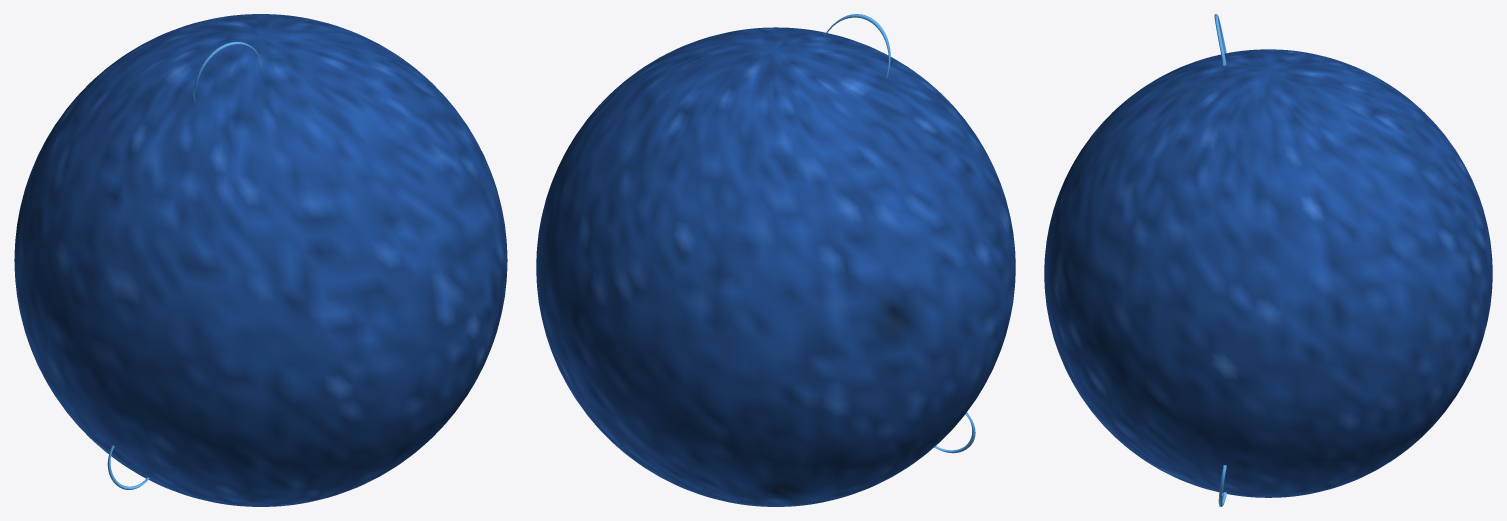
The model's file is Star_39.fbx.
3 views of the same model, side by side, from view 1: azimuth 30°, elevation 25°; view 2: azimuth 150°, elevation 25°; view 3: azimuth 270°, elevation 25° (orthographic). The views are drawn at different scales.
Visible parts, largest first — view 1: Star_39; view 2: Star_39; view 3: Star_39.
Part boxes in pixels (left/top/right/bottom): Star_39: left=14, top=14, right=507, bottom=506; Star_39: left=536, top=14, right=1015, bottom=506; Star_39: left=1044, top=14, right=1492, bottom=506.
Size of the model in its own units: 200 by 213 by 200.
